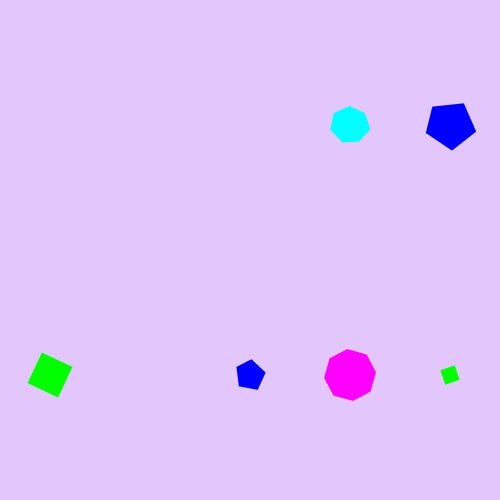heptagon: (327, 103, 373, 147)
octagon: (321, 346, 380, 405)
pentagon: (423, 98, 478, 153), (231, 356, 269, 394)
quadrilateral: (23, 348, 77, 402), (435, 360, 465, 390)
